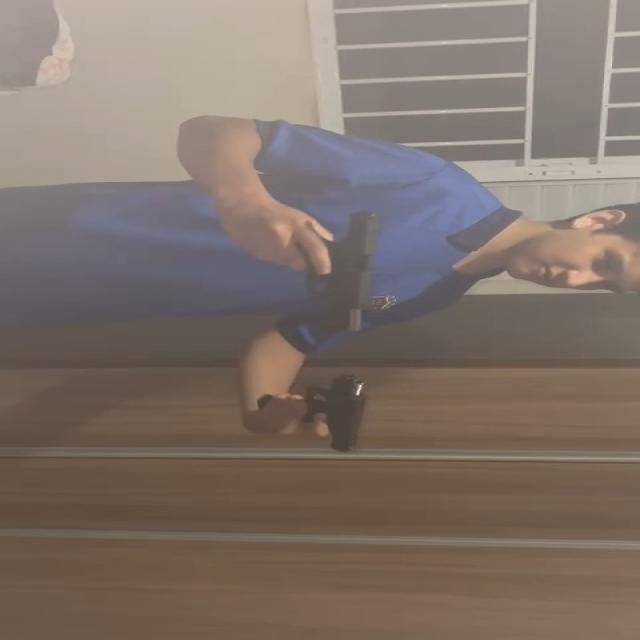gun: (305, 212, 382, 328), (282, 370, 371, 450)
